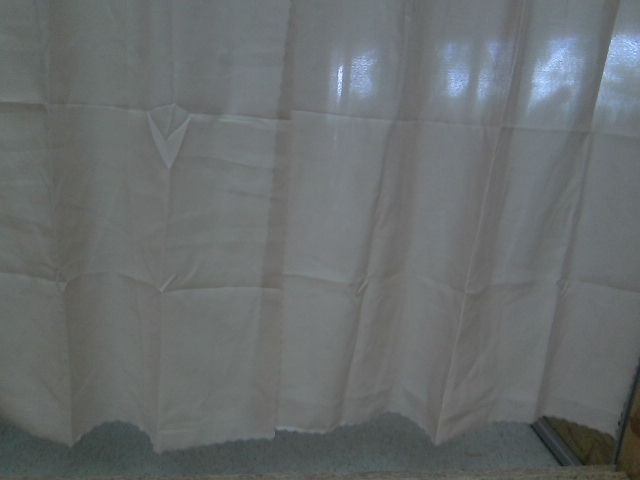curtain: (0, 0, 640, 422)
